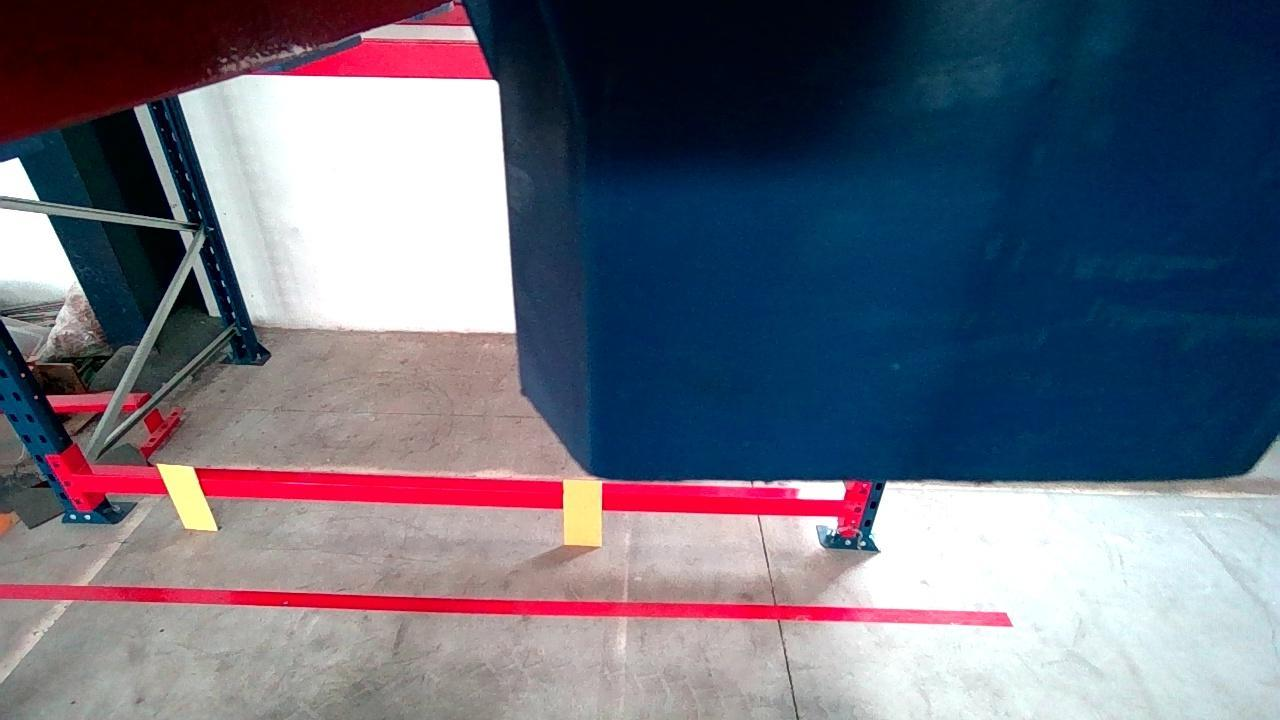h_rack: (72, 475, 841, 517)
orange_strip: (158, 466, 216, 529), (562, 480, 600, 548)
red_line: (2, 582, 1010, 624)
